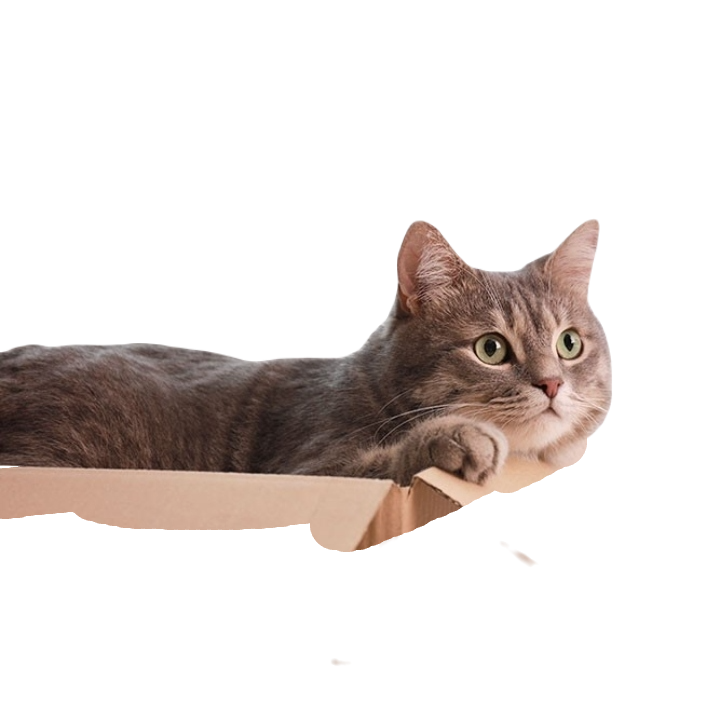Cat: (1, 217, 619, 494)
